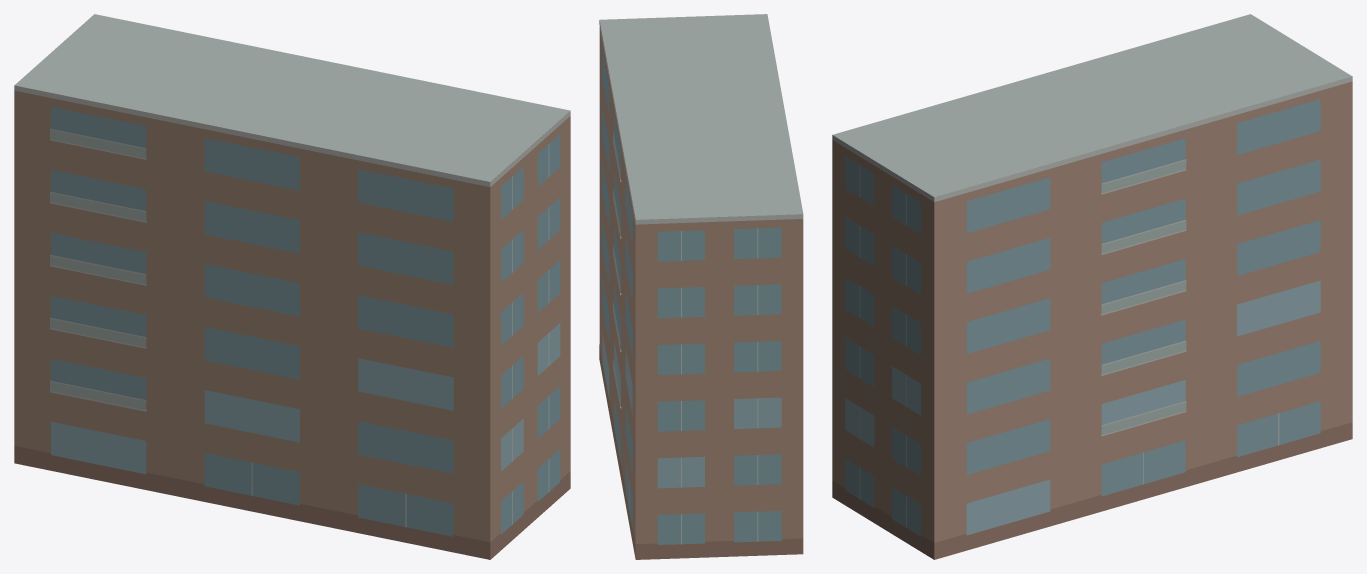
File: survey-upis-32666014.glb
The picture shows the model from 3 angles, left to right: view 1: azimuth 30°, elevation 25°; view 2: azimuth 150°, elevation 25°; view 3: azimuth 270°, elevation 25°; orthographic projection. The views are drawn at different scales.
Visible parts, largest first — view 1: survey-upis-32666014.tmp; view 2: survey-upis-32666014.tmp; view 3: survey-upis-32666014.tmp.
Part boxes in pixels (x1,y1,x2,y2): survey-upis-32666014.tmp: [14, 14, 570, 559]; survey-upis-32666014.tmp: [599, 14, 803, 559]; survey-upis-32666014.tmp: [832, 14, 1352, 559].
Bounding box in the file's own units: 19.42 × 17.9 × 23.29.
